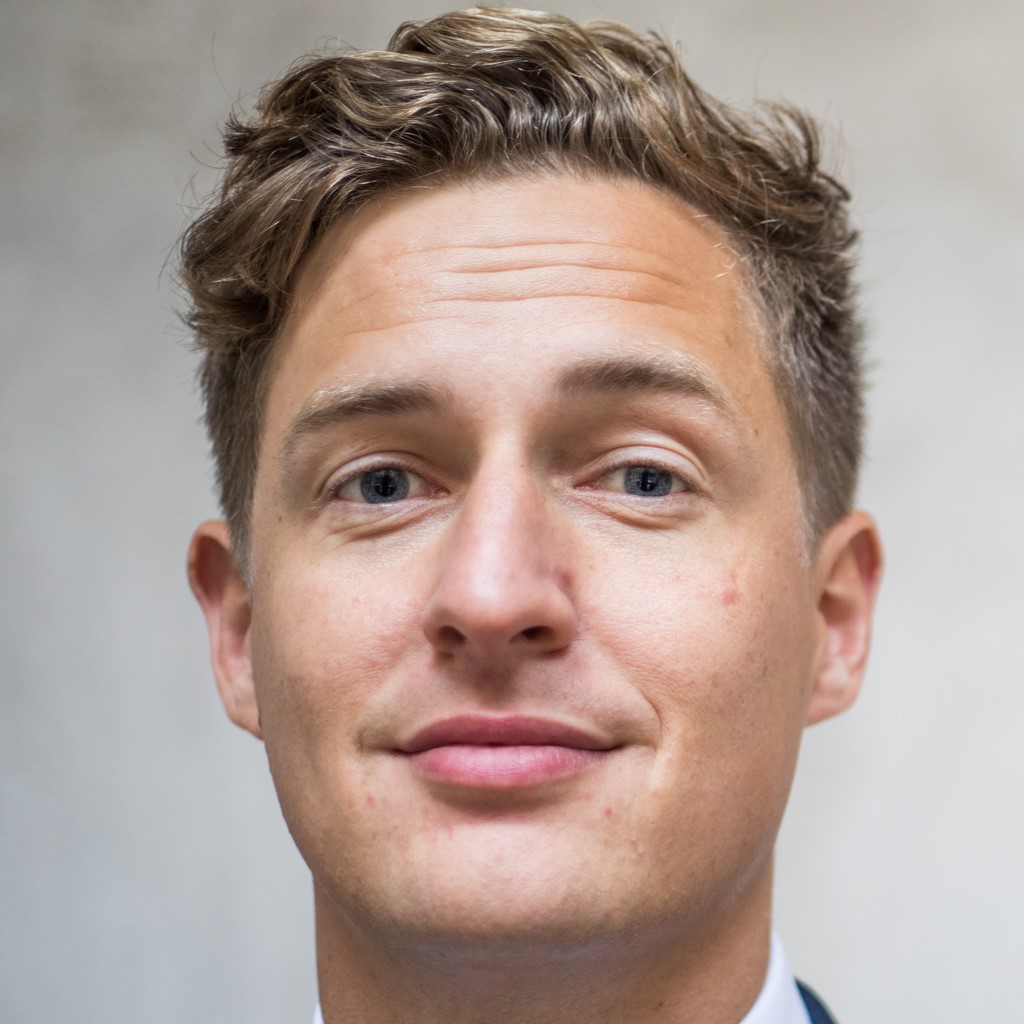sin_mascara: (199, 133, 864, 961)
